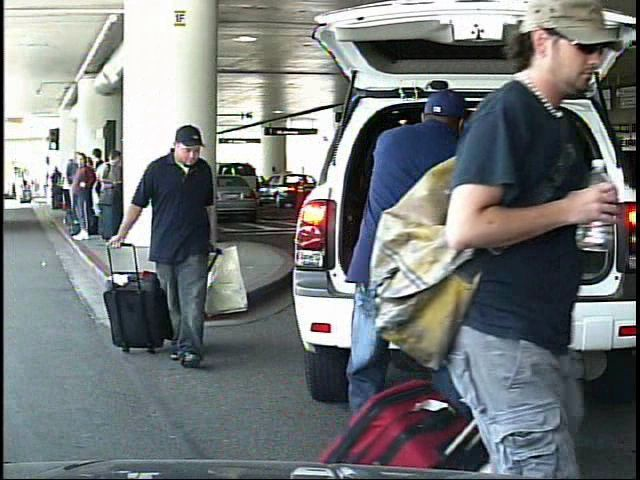person: (401, 12, 594, 476), (328, 76, 506, 475), (104, 123, 237, 375), (13, 173, 24, 204)
